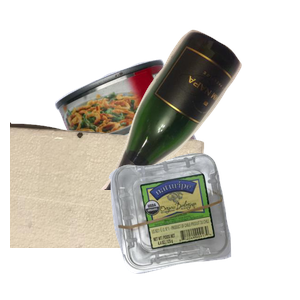glass: (87, 27, 300, 207)
metal: (52, 57, 260, 237)
plastic: (106, 151, 300, 300)
trash: (10, 120, 207, 300)
